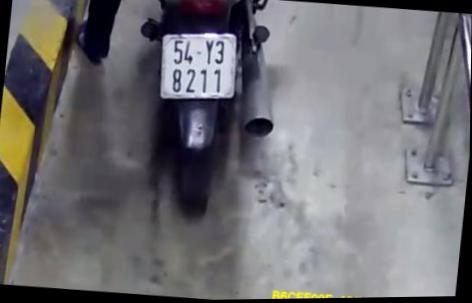LP: (156, 26, 242, 105)
